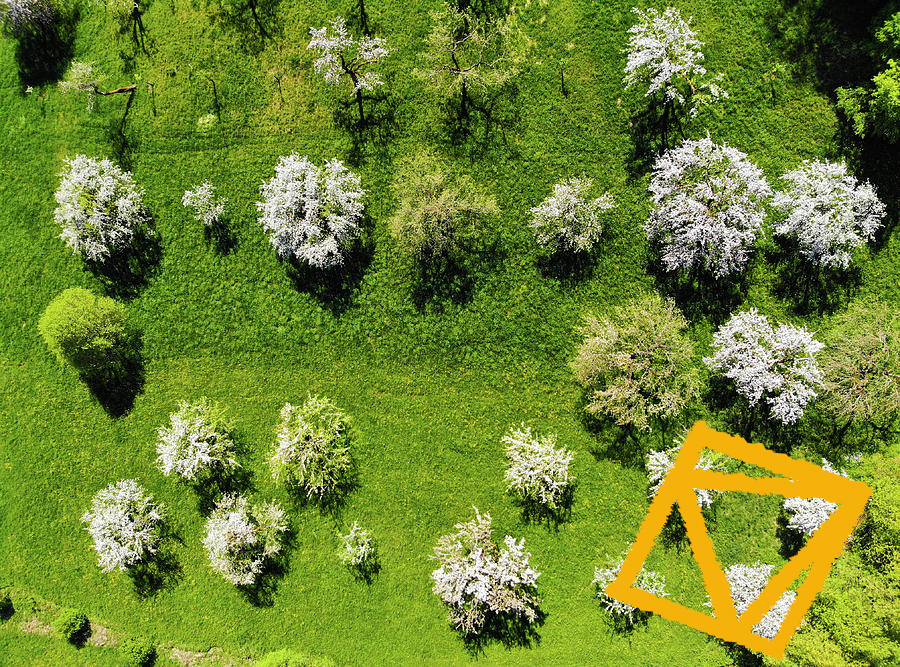marker: (600, 416, 878, 663)
